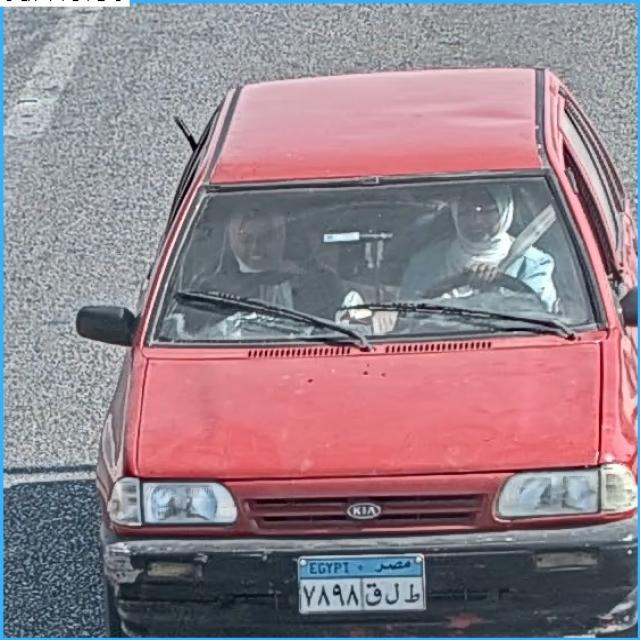windshield: (160, 187, 586, 324)
